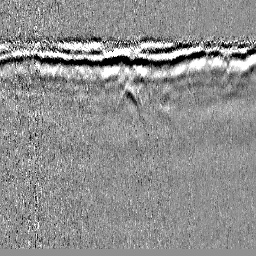cavity: (115, 82, 140, 114)
